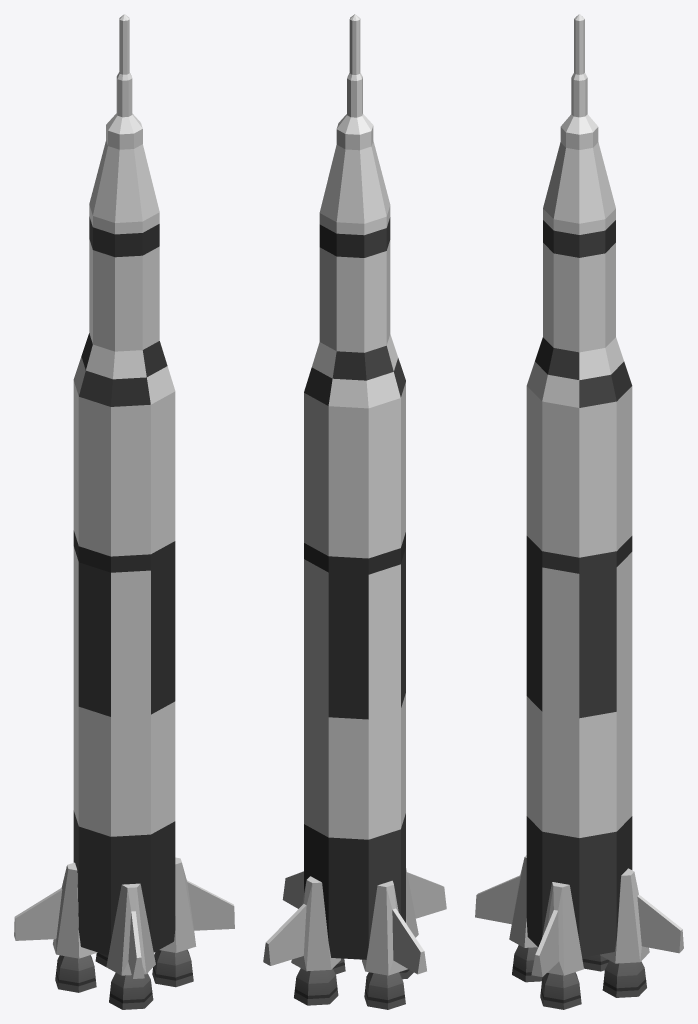
File: SM_Veh_Rocket_Large_01.fbx
The picture shows the model from 3 angles, left to right: view 1: azimuth 30°, elevation 25°; view 2: azimuth 150°, elevation 25°; view 3: azimuth 270°, elevation 25°; orthographic projection.
Parts seen in each view (by area): view 1: SM_Veh_Rocket_Large_Stage_01, SM_Veh_Rocket_Large_Stage_02, SM_Veh_Rocket_Large_Stage_03, SM_Veh_Rocket_Large_Tip_01; view 2: SM_Veh_Rocket_Large_Stage_01, SM_Veh_Rocket_Large_Stage_02, SM_Veh_Rocket_Large_Stage_03, SM_Veh_Rocket_Large_Tip_01; view 3: SM_Veh_Rocket_Large_Stage_01, SM_Veh_Rocket_Large_Stage_02, SM_Veh_Rocket_Large_Stage_03, SM_Veh_Rocket_Large_Tip_01.
Boxes of the visible parts, x1,y1,x2,y2 form: SM_Veh_Rocket_Large_Stage_01: (14, 546, 234, 1009); SM_Veh_Rocket_Large_Stage_02: (73, 333, 175, 572); SM_Veh_Rocket_Large_Stage_03: (89, 140, 159, 351); SM_Veh_Rocket_Large_Tip_01: (106, 14, 142, 149); SM_Veh_Rocket_Large_Stage_01: (263, 548, 446, 1009); SM_Veh_Rocket_Large_Stage_02: (304, 334, 405, 574); SM_Veh_Rocket_Large_Stage_03: (319, 141, 390, 352); SM_Veh_Rocket_Large_Tip_01: (336, 14, 373, 150); SM_Veh_Rocket_Large_Stage_01: (475, 552, 683, 1009); SM_Veh_Rocket_Large_Stage_02: (526, 337, 632, 573); SM_Veh_Rocket_Large_Stage_03: (543, 142, 615, 352); SM_Veh_Rocket_Large_Tip_01: (560, 14, 598, 149).
Size of the model in its own units: 10.1 by 51.57 by 10.1.
